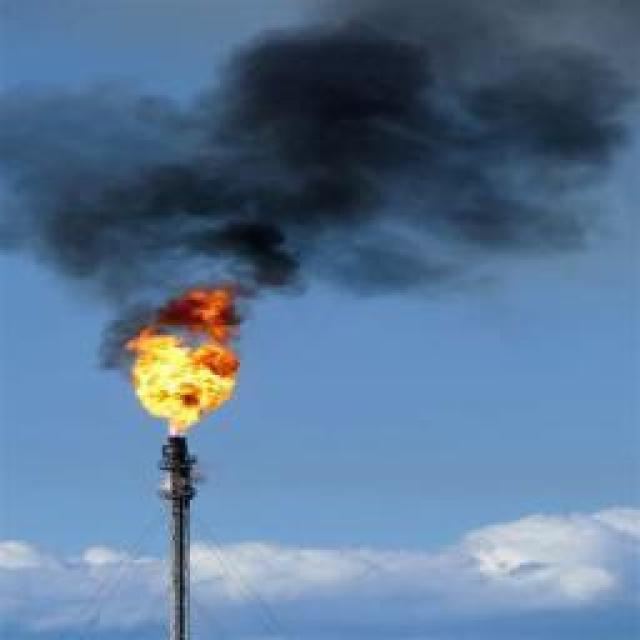fire: (126, 289, 239, 433)
smoke: (40, 0, 640, 382)
